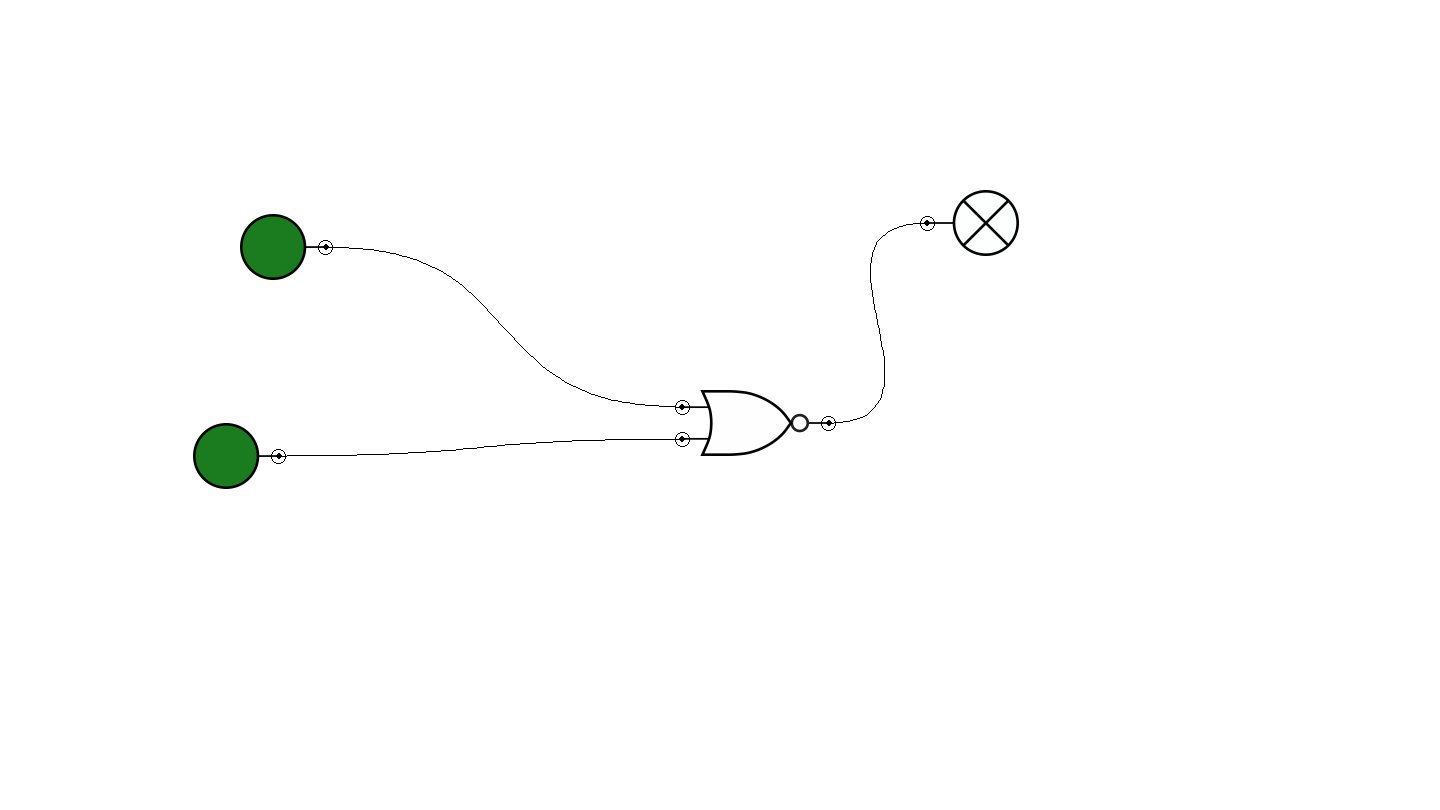bulb: (920, 190, 1019, 256)
nor: (675, 390, 836, 456)
switch_True: (193, 423, 286, 489), (240, 214, 333, 280)
